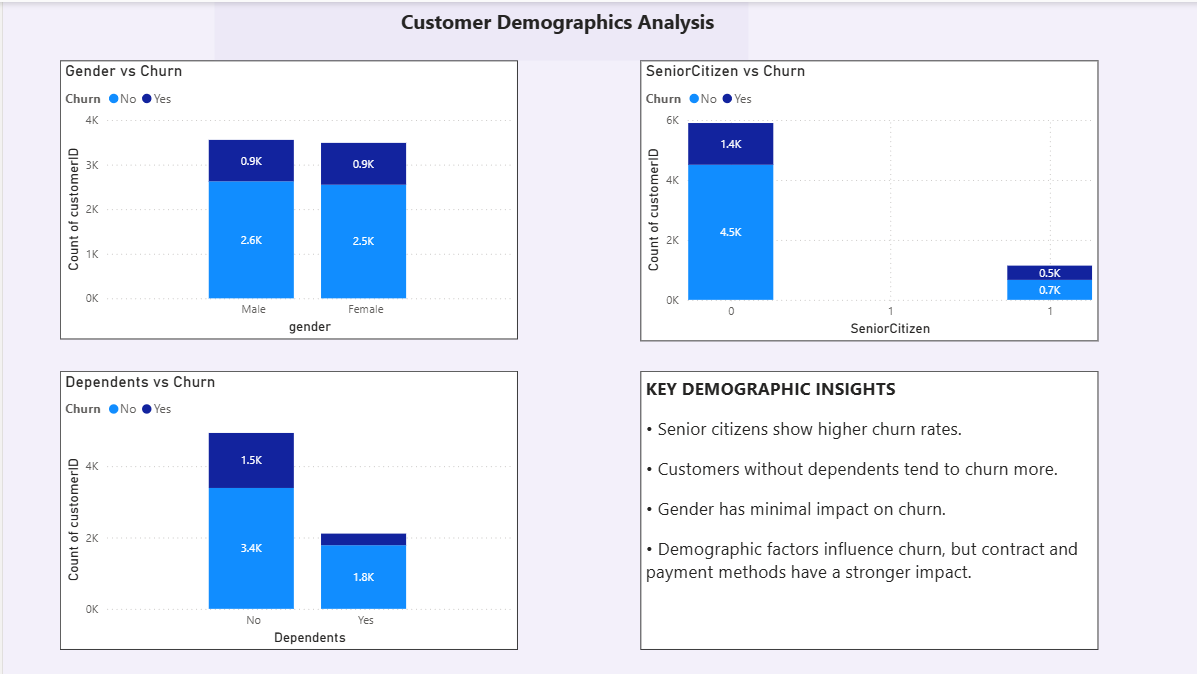

Layout of this report page (visuals, bound fields, positions):
{"tool":"powerbi","page":{"name":"Customer Demographics Analysis","canvas":[1280,720],"ordinal":2},"visuals":[{"type":"columnChart","title":"  Gender vs Churn","fields":{"Category":["WA_Fn-UseC_-Telco-Customer-Churn.gender"],"Series":["WA_Fn-UseC_-Telco-Customer-Churn.Churn"],"Y":["CountNonNull(WA_Fn-UseC_-Telco-Customer-Churn.customerID)"]},"box":[60.9,62.5,489,298.2],"z":0},{"type":"columnChart","title":" SeniorCitizen vs Churn","fields":{"Y":["CountNonNull(WA_Fn-UseC_-Telco-Customer-Churn.customerID)"],"Series":["WA_Fn-UseC_-Telco-Customer-Churn.Churn"],"Category":["WA_Fn-UseC_-Telco-Customer-Churn.SeniorCitizen"]},"box":[681.4,62.5,489,299.8],"z":1000},{"type":"columnChart","title":"Dependents vs Churn","fields":{"Category":["WA_Fn-UseC_-Telco-Customer-Churn.Dependents"],"Series":["WA_Fn-UseC_-Telco-Customer-Churn.Churn"],"Y":["CountNonNull(WA_Fn-UseC_-Telco-Customer-Churn.customerID)"]},"box":[60.9,394.4,489,298.2],"z":2000},{"type":"textbox","box":[681,394,489,298],"z":3000},{"type":"textbox","box":[226.1,0,570.8,62.5],"z":4000}]}

Visuals, with their boxes in screenshot pixels (x1, y1, x2, y2), scaled from the page's 1280x720 canvas onto the 1197x674 screenshot:
"  Gender vs Churn" columnChart: Rect(57, 59, 514, 338)
" SeniorCitizen vs Churn" columnChart: Rect(637, 59, 1095, 339)
"Dependents vs Churn" columnChart: Rect(57, 369, 514, 648)
textbox: Rect(637, 369, 1094, 648)
textbox: Rect(211, 0, 745, 59)
